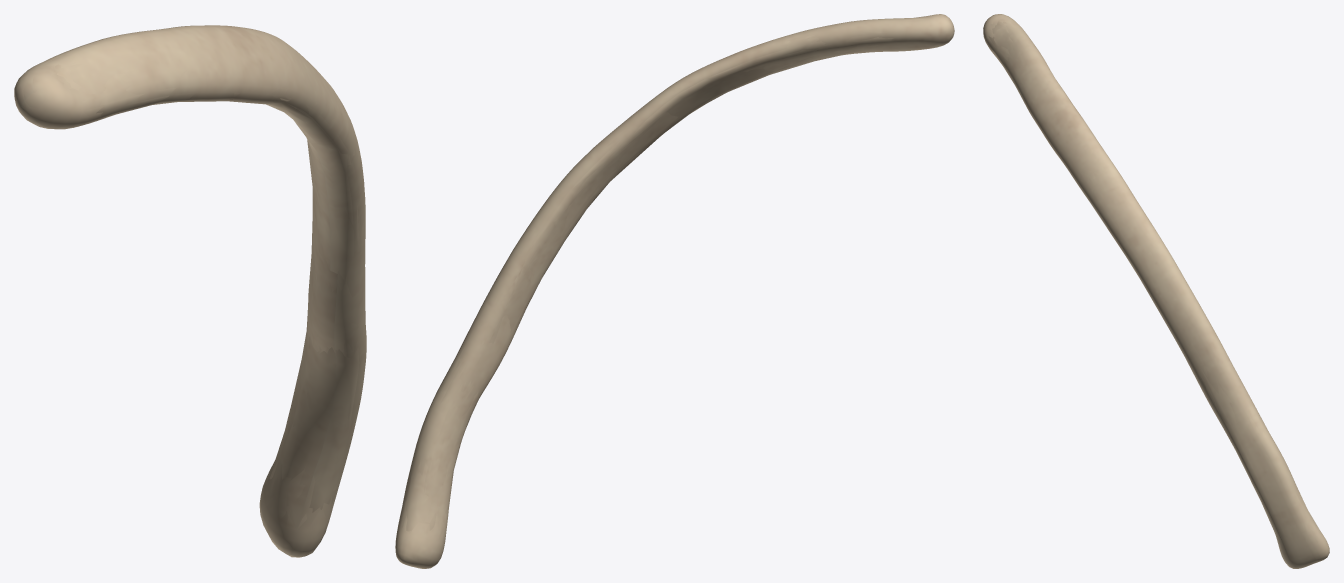
The model's file is Rib L12.fbx.
3 renders of one model, left to right at view 1: azimuth 30°, elevation 25°; view 2: azimuth 150°, elevation 25°; view 3: azimuth 270°, elevation 25°, orthographic. The views are drawn at different scales.
Parts seen in each view (by area): view 1: Rib L12 high, Rib L12 low, Rib L12; view 2: Rib L12 high, Rib L12, Rib L12 low; view 3: Rib L12 high, Rib L12, Rib L12 low.
Boxes of the visible parts, bbox=[...] form: Rib L12 high: bbox=[14, 25, 366, 555]; Rib L12 low: bbox=[55, 64, 365, 512]; Rib L12: bbox=[14, 26, 366, 557]; Rib L12 high: bbox=[395, 14, 954, 568]; Rib L12: bbox=[395, 14, 954, 568]; Rib L12 low: bbox=[404, 16, 924, 532]; Rib L12 high: bbox=[983, 14, 1328, 567]; Rib L12: bbox=[983, 14, 1329, 568]; Rib L12 low: bbox=[988, 21, 1319, 541].
Bounding box in the file's own units: 12.55 × 16.37 × 12.32.
1 material, 1 textured.
